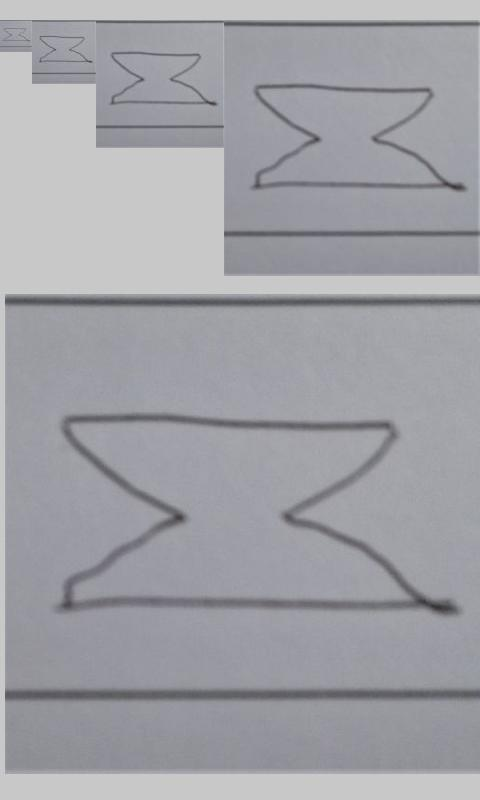edit_text: (59, 412, 446, 613), (254, 84, 455, 190), (108, 50, 208, 105), (39, 35, 89, 64), (3, 28, 28, 41)
